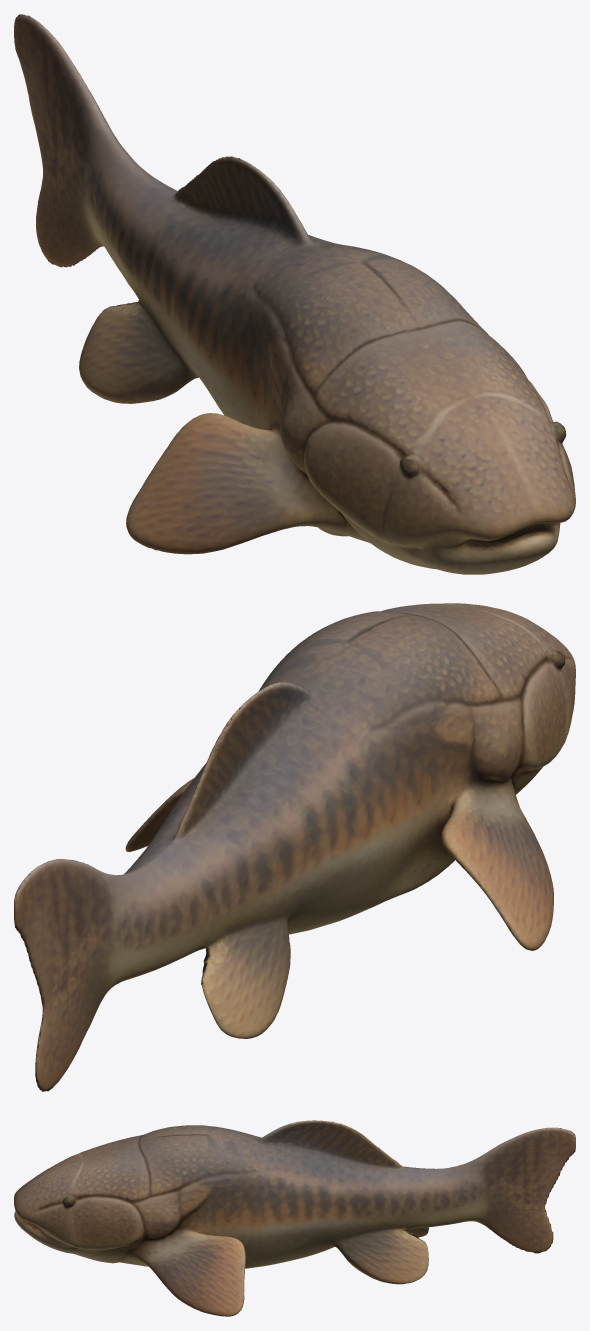
The picture shows the model from 3 angles, top to bottom: view 1: azimuth 30°, elevation 25°; view 2: azimuth 150°, elevation 25°; view 3: azimuth 270°, elevation 25°; orthographic projection. The views are drawn at different scales.
Visible parts, largest first — view 1: world; view 2: world; view 3: world.
Boxes of the visible parts, <box> form: world: <box>14,14,575,574</box>; world: <box>14,603,575,1091</box>; world: <box>14,1120,575,1316</box>.
Size of the model in its own units: 0.203 by 0.1269 by 0.45.
Materials: 1 (1 with a texture image).
